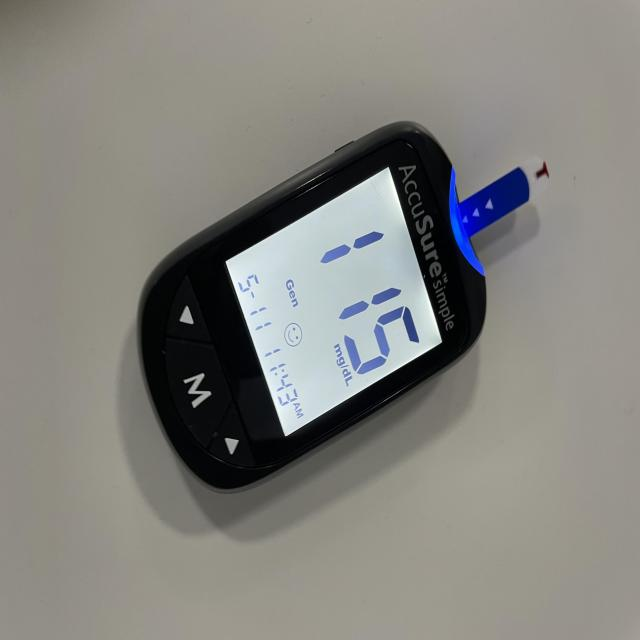gluco: (136, 122, 530, 494)
